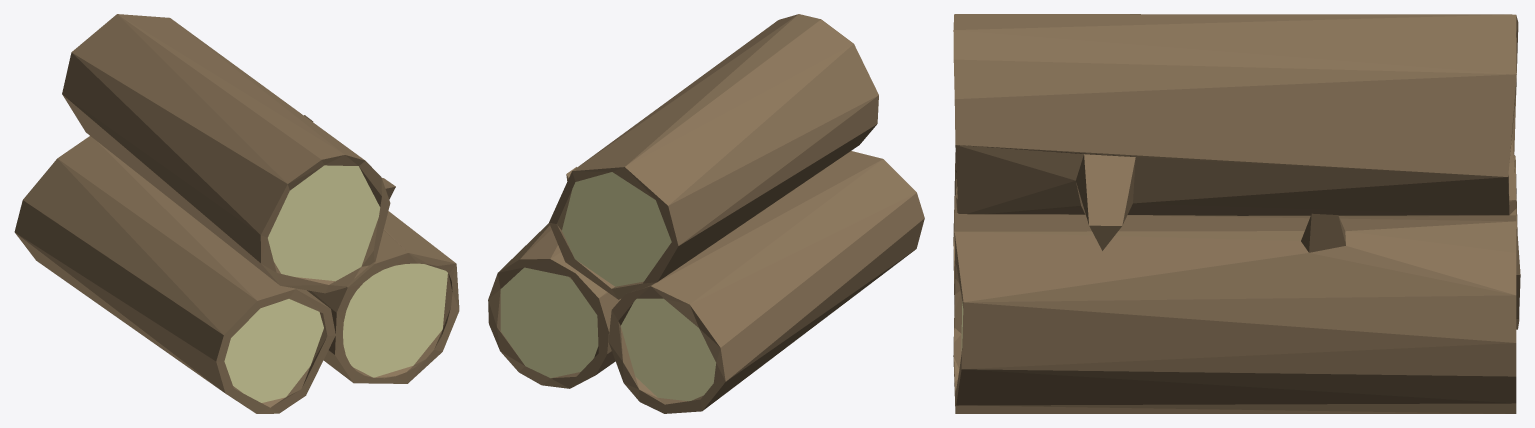
3 renders of one model, left to right at view 1: azimuth 30°, elevation 25°; view 2: azimuth 150°, elevation 25°; view 3: azimuth 270°, elevation 25°, orthographic. The views are drawn at different scales.
Visible parts, largest first — view 1: Logs; view 2: Logs; view 3: Logs.
Part boxes in pixels (x1,y1,x2,y2): Logs: (14,14,459,413); Logs: (488,14,924,413); Logs: (953,14,1520,413).
Size of the model in its own units: 198 by 189 by 285.
